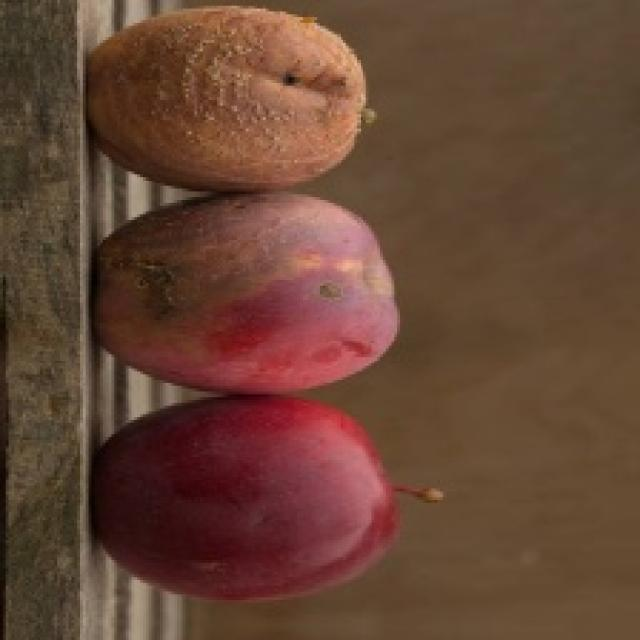rotten_apple: (95, 195, 399, 386), (84, 10, 362, 188)
